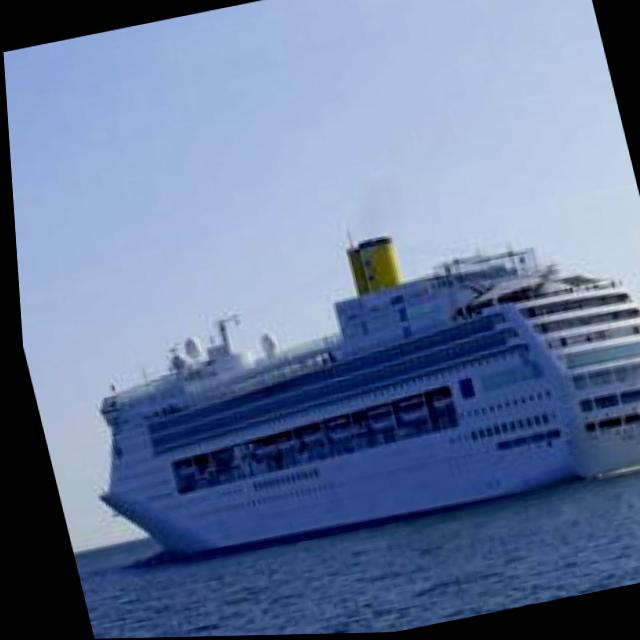ship2: (90, 239, 640, 561)
